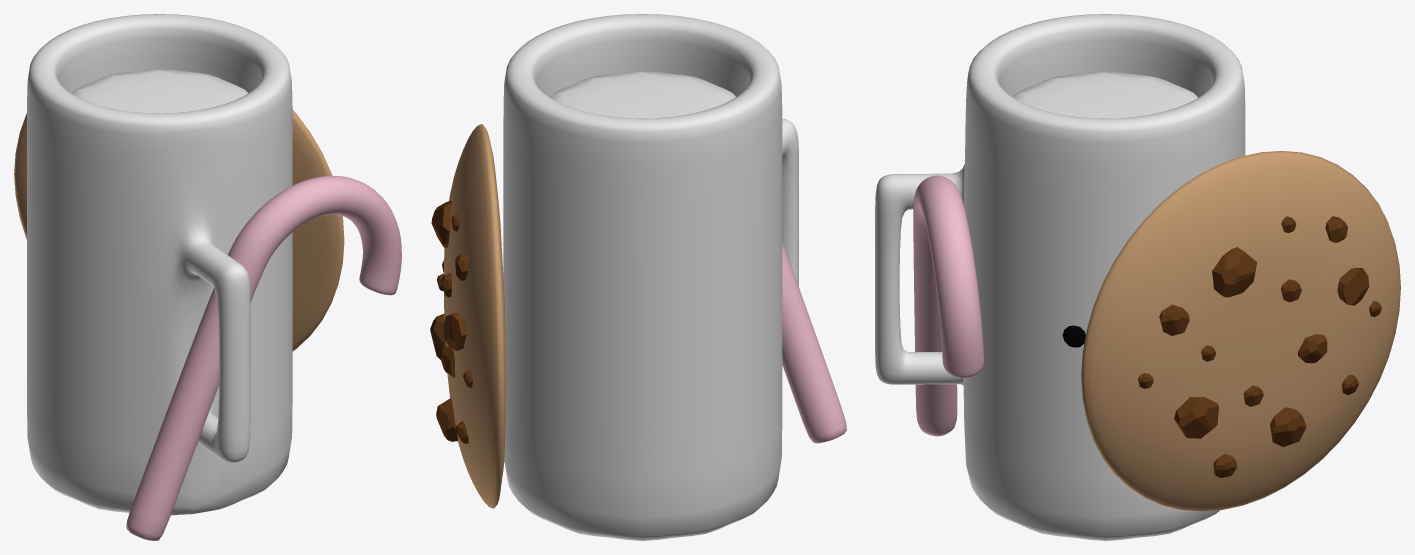
File: ShieldocaNÃOVAIROLARESSEAQUI.fbx
The picture shows the model from 3 angles, left to right: view 1: azimuth 30°, elevation 25°; view 2: azimuth 150°, elevation 25°; view 3: azimuth 270°, elevation 25°; orthographic projection. The views are drawn at different scales.
Parts seen in each view (by area): view 1: Copo, Canudo, Cookie, Leite; view 2: Copo, Cookie, Leite, Canudo, Gotas de Chocolate; view 3: Copo, Cookie, Canudo, Gotas de Chocolate, Leite.
Boxes of the visible parts, box(x1,y1,x2,y2) form: Copo: box(27, 14, 292, 515); Canudo: box(126, 176, 401, 540); Cookie: box(14, 110, 344, 351); Leite: box(71, 69, 248, 113); Copo: box(503, 14, 798, 540); Cookie: box(443, 124, 506, 508); Leite: box(550, 71, 735, 118); Canudo: box(782, 242, 846, 443); Gotas de Chocolate: box(430, 200, 472, 443); Copo: box(875, 14, 1245, 540); Cookie: box(1081, 151, 1400, 511); Canudo: box(913, 175, 983, 436); Gotas de Chocolate: box(1138, 216, 1381, 477); Leite: box(1012, 71, 1197, 118).
Bounding box in the file's own units: 257 × 340 × 385.
